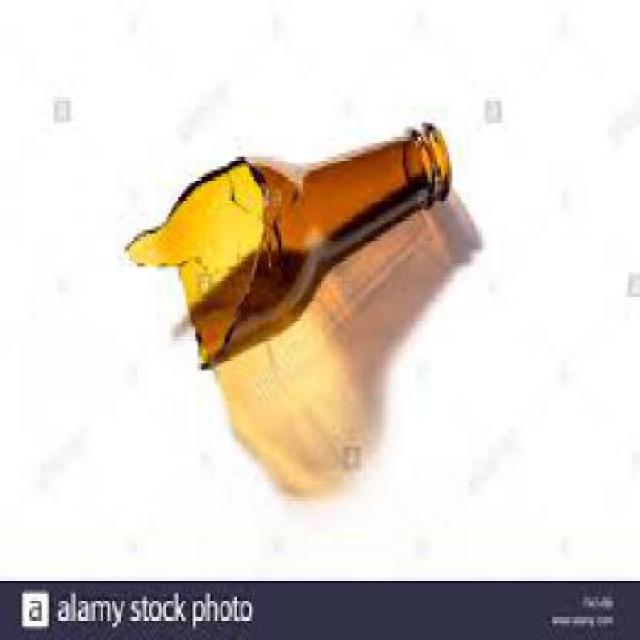GLASS: (122, 119, 450, 367)
